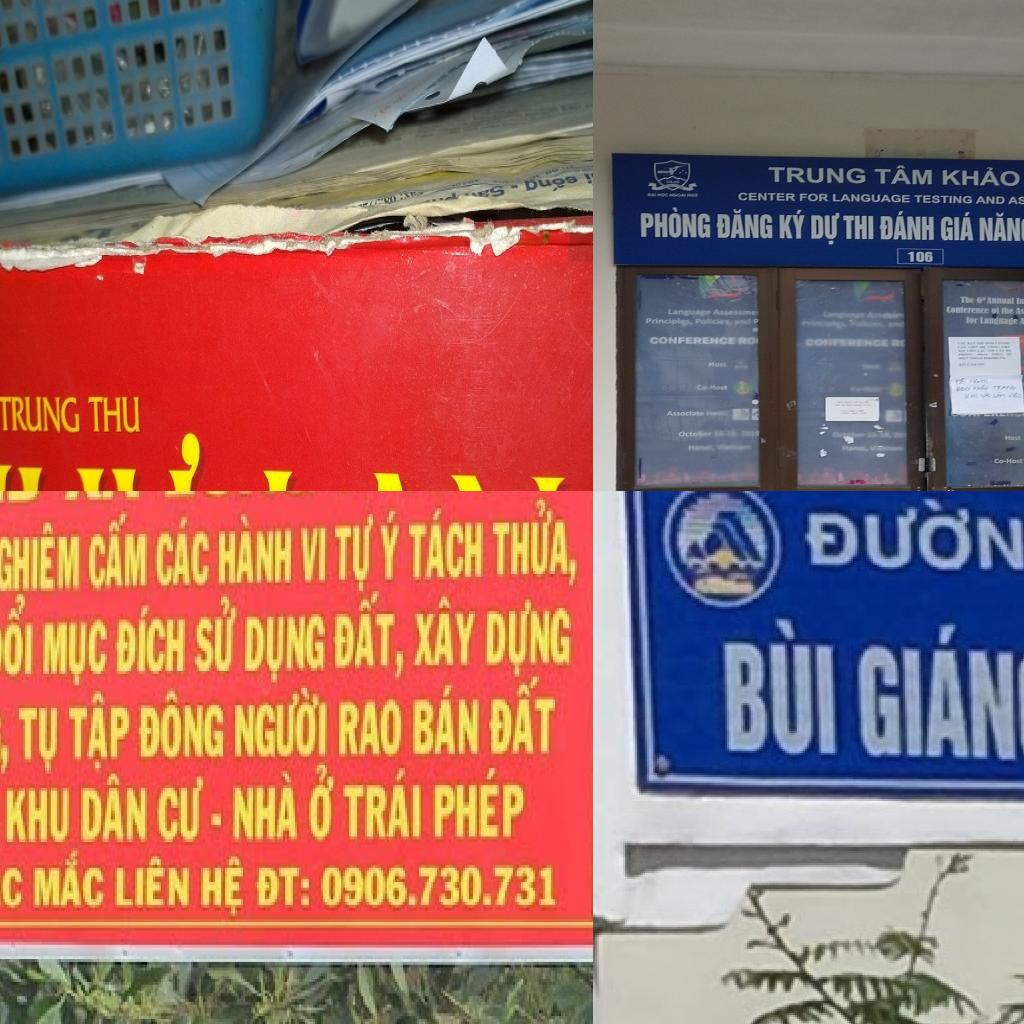text: (797, 495, 1024, 579), (713, 617, 843, 763), (0, 424, 205, 491), (319, 862, 561, 913), (491, 494, 583, 591), (485, 597, 575, 682), (331, 588, 409, 685), (233, 685, 331, 762), (433, 765, 529, 842), (137, 685, 227, 765), (243, 611, 329, 688), (341, 765, 425, 842), (407, 506, 487, 586), (0, 520, 83, 597), (487, 674, 559, 759), (217, 511, 295, 588), (113, 602, 189, 680), (87, 508, 151, 597), (67, 691, 135, 774), (411, 682, 483, 760), (79, 771, 151, 848), (411, 594, 481, 671), (231, 768, 301, 845), (41, 617, 111, 691), (155, 774, 225, 848), (31, 848, 109, 913), (113, 854, 195, 914), (153, 514, 213, 594), (337, 694, 405, 762), (5, 785, 73, 848), (0, 389, 82, 439), (193, 594, 241, 679), (333, 511, 377, 597), (80, 384, 143, 441), (0, 590, 37, 682), (17, 702, 63, 776), (199, 851, 247, 919), (307, 762, 337, 845), (638, 208, 713, 240), (377, 508, 405, 586), (0, 847, 29, 913), (715, 208, 774, 240), (299, 526, 329, 588), (766, 166, 868, 184), (940, 165, 1022, 187), (878, 210, 935, 241), (976, 211, 1024, 242), (872, 166, 934, 186), (938, 210, 975, 242), (776, 208, 808, 240), (809, 212, 840, 245), (648, 335, 737, 346), (842, 215, 876, 241), (832, 193, 912, 204), (803, 338, 890, 348), (737, 191, 797, 203), (913, 194, 974, 205), (945, 305, 990, 315), (644, 317, 694, 326), (666, 308, 712, 317), (712, 308, 757, 317), (798, 192, 831, 203), (979, 317, 1019, 326), (694, 317, 734, 326), (907, 251, 934, 263), (974, 195, 1006, 205), (986, 296, 1016, 306), (664, 410, 706, 417), (693, 384, 731, 391), (992, 457, 1024, 465), (676, 431, 712, 438), (840, 444, 870, 452), (686, 444, 717, 451), (713, 430, 740, 438), (967, 377, 991, 385), (738, 336, 757, 346), (867, 432, 893, 439), (991, 385, 1019, 391), (1004, 434, 1024, 442), (740, 430, 761, 437), (972, 384, 990, 392), (734, 318, 752, 326), (959, 296, 976, 304), (708, 361, 727, 368), (705, 410, 727, 416), (955, 385, 971, 393), (963, 392, 979, 400), (990, 391, 1006, 399), (1006, 392, 1024, 399), (964, 317, 979, 325), (954, 377, 967, 386), (1000, 307, 1014, 315), (668, 193, 688, 198), (989, 306, 1000, 315), (980, 392, 994, 399), (891, 339, 901, 348), (1014, 307, 1024, 316), (656, 192, 670, 198), (686, 192, 700, 198), (1015, 296, 1024, 305), (985, 345, 1001, 350), (646, 192, 658, 198), (976, 296, 985, 304), (753, 318, 760, 326), (966, 341, 977, 346), (967, 345, 979, 349), (1000, 345, 1012, 349), (1019, 317, 1024, 326), (956, 342, 966, 346), (956, 346, 968, 349), (979, 345, 987, 349)
